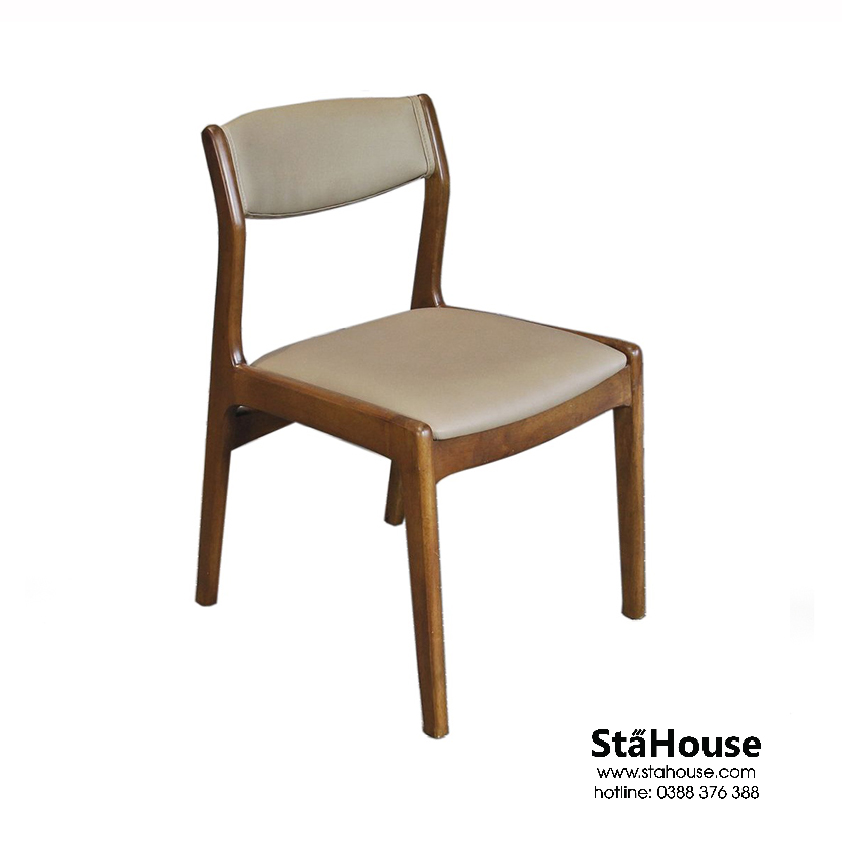seat: (181, 82, 687, 735)
